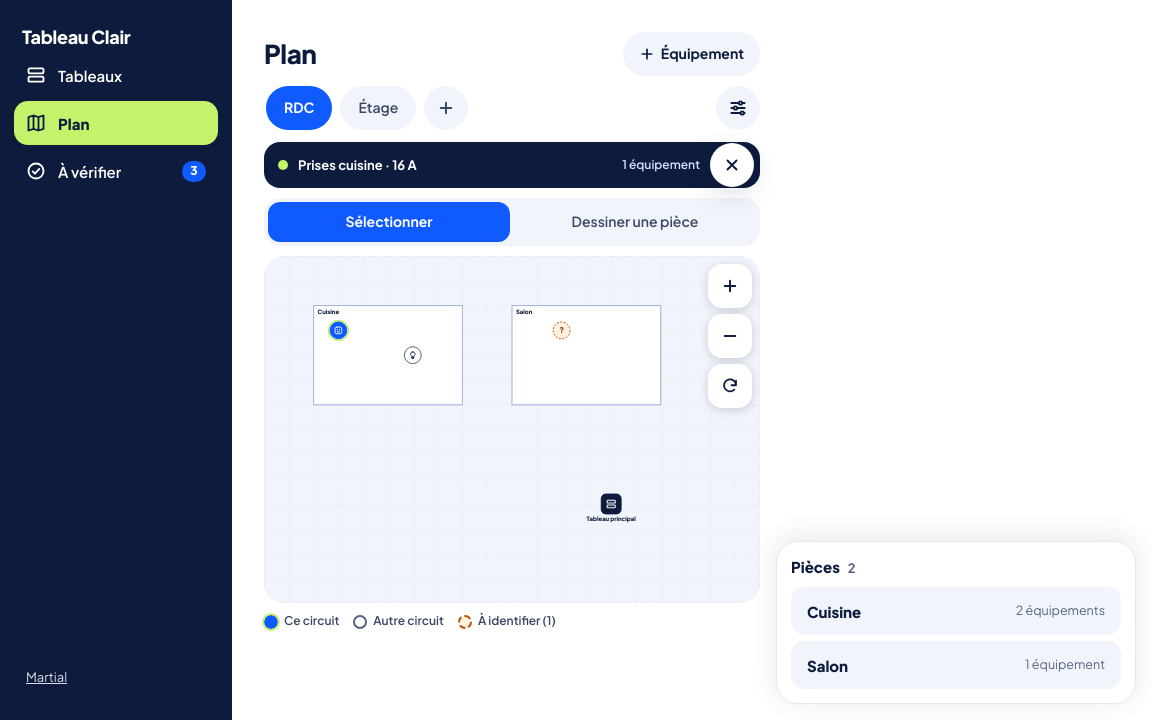
Scenario: affichage › retire la mise en évidence du circuit
Click the button named "Retirer la mise en évidence du circuit" at x=732, y=165, box left=710, top=143, right=754, bottom=187
(page scrolled)
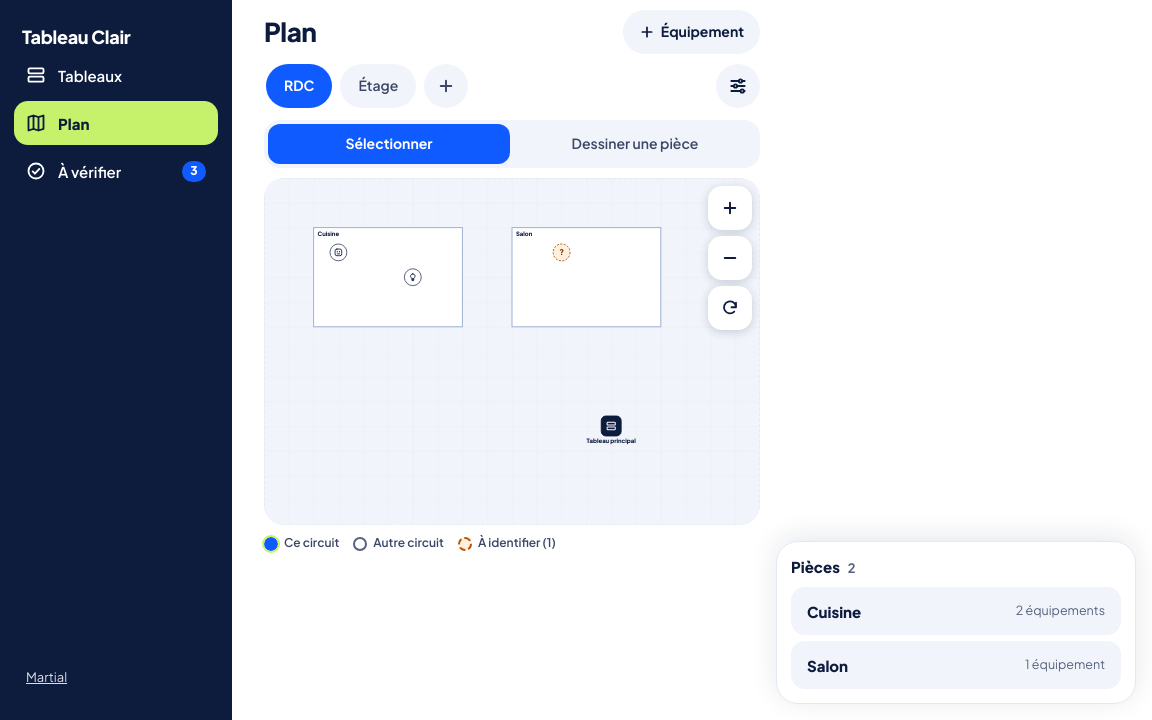
Expected: the text "Prises cuisine · 16 A" is gone
